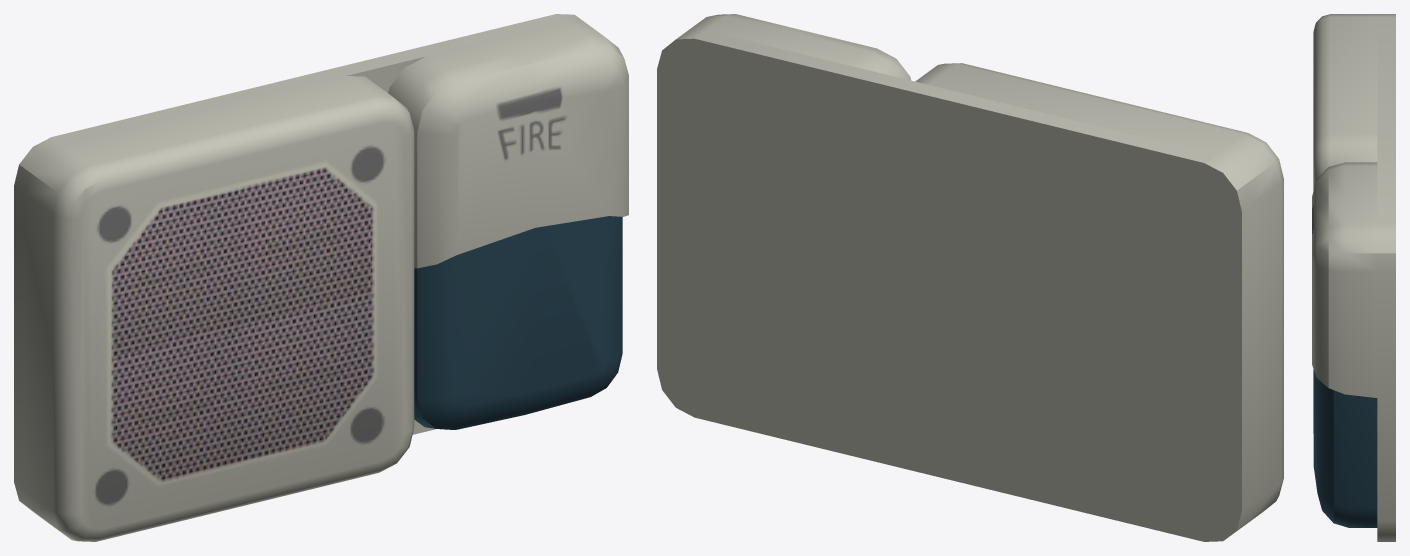
The model's file is FireAlarmYellow.fbx.
The picture shows the model from 3 angles, left to right: view 1: azimuth 30°, elevation 25°; view 2: azimuth 150°, elevation 25°; view 3: azimuth 270°, elevation 25°; orthographic projection. The views are drawn at different scales.
Parts seen in each view (by area): view 1: FireAlarmYellow; view 2: FireAlarmYellow; view 3: FireAlarmYellow.
Boxes of the visible parts, x1,y1,x2,y2 form: FireAlarmYellow: (14, 14, 628, 541); FireAlarmYellow: (657, 14, 1283, 541); FireAlarmYellow: (1312, 14, 1395, 541).
Size of the model in its own units: 0.21 by 0.13 by 0.0313.
